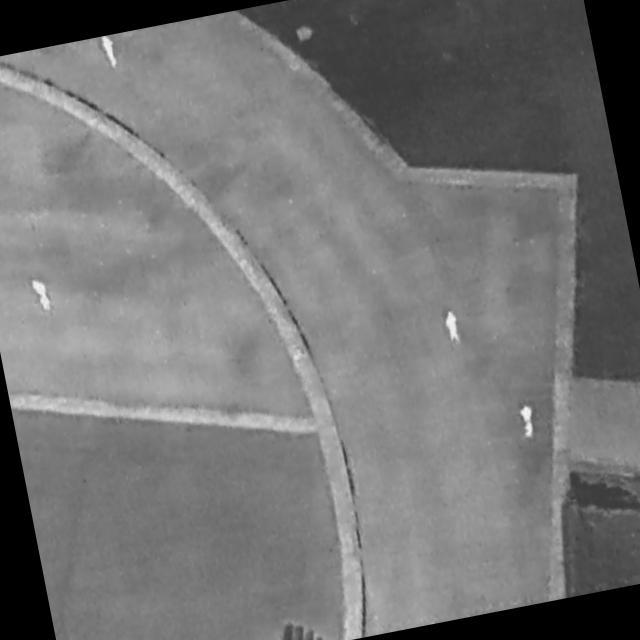person: (518, 402, 540, 440), (31, 277, 52, 316), (100, 37, 119, 70), (445, 309, 463, 343)
